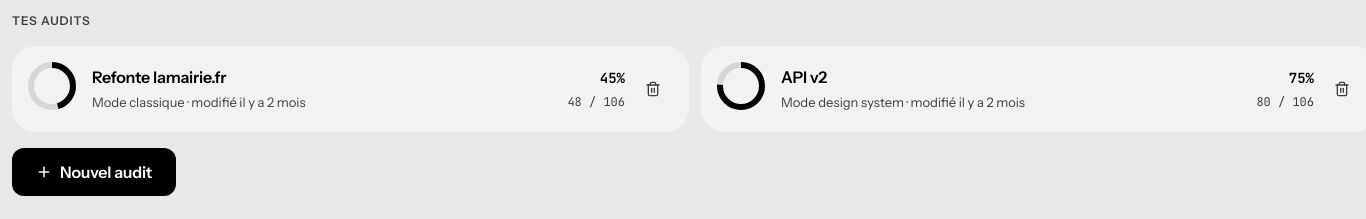
Test: HomeScreen › Suppression d'un audit › renonce à la suppression sur Annuler
Click the button named "Supprimer l'audit Refonte lamairie.fr": (653, 89) [633,69,673,109]
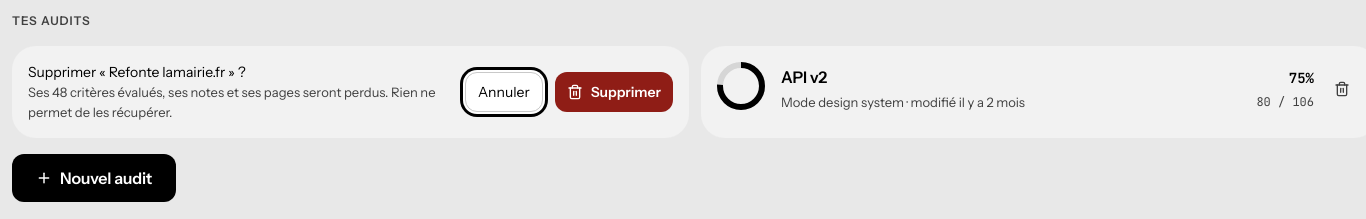
Click the button "Annuler": (504, 92) [465,72,543,112]
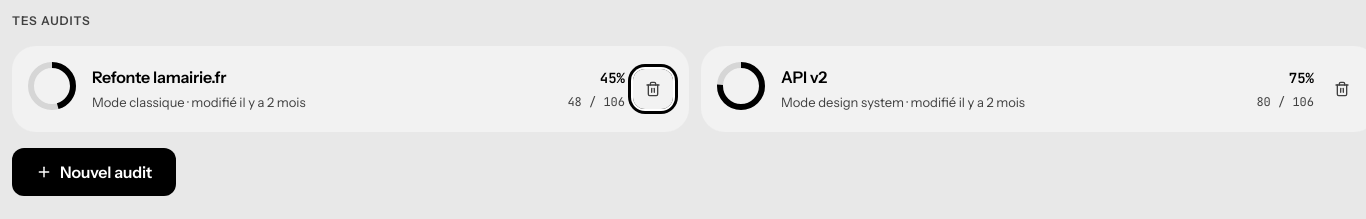
Check: the text "Supprimer « Refonte" is gone
